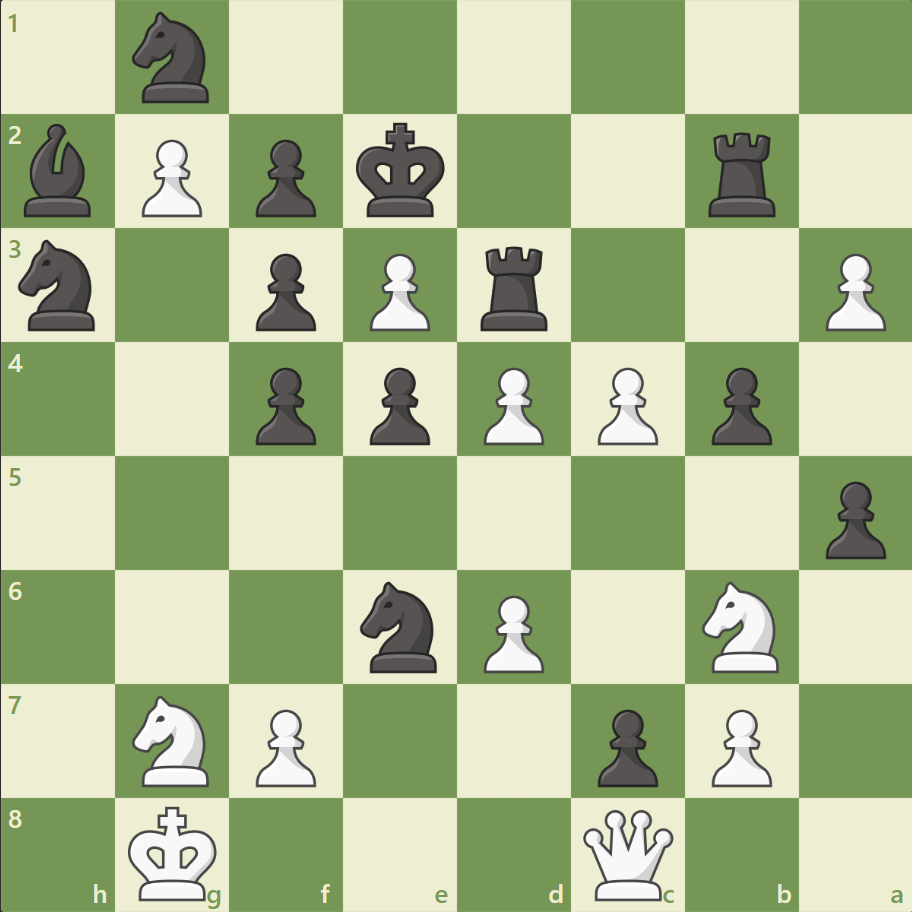K: (124, 798, 224, 906)
N: (124, 688, 222, 791), (692, 575, 789, 677)
P: (701, 700, 776, 791), (247, 700, 322, 791), (474, 586, 549, 677), (474, 359, 549, 450), (133, 132, 208, 223), (588, 359, 662, 450), (815, 246, 889, 337), (361, 246, 435, 337)
Q: (578, 804, 677, 903)
b: (17, 120, 101, 222)
k: (351, 117, 451, 225)
n: (124, 7, 222, 110), (351, 575, 449, 677), (11, 234, 108, 337)
p: (701, 359, 776, 450), (247, 359, 322, 450), (247, 246, 322, 337), (247, 132, 322, 223), (588, 700, 662, 791), (815, 473, 889, 564), (361, 359, 435, 450)
r: (473, 239, 556, 336), (700, 125, 783, 222)
